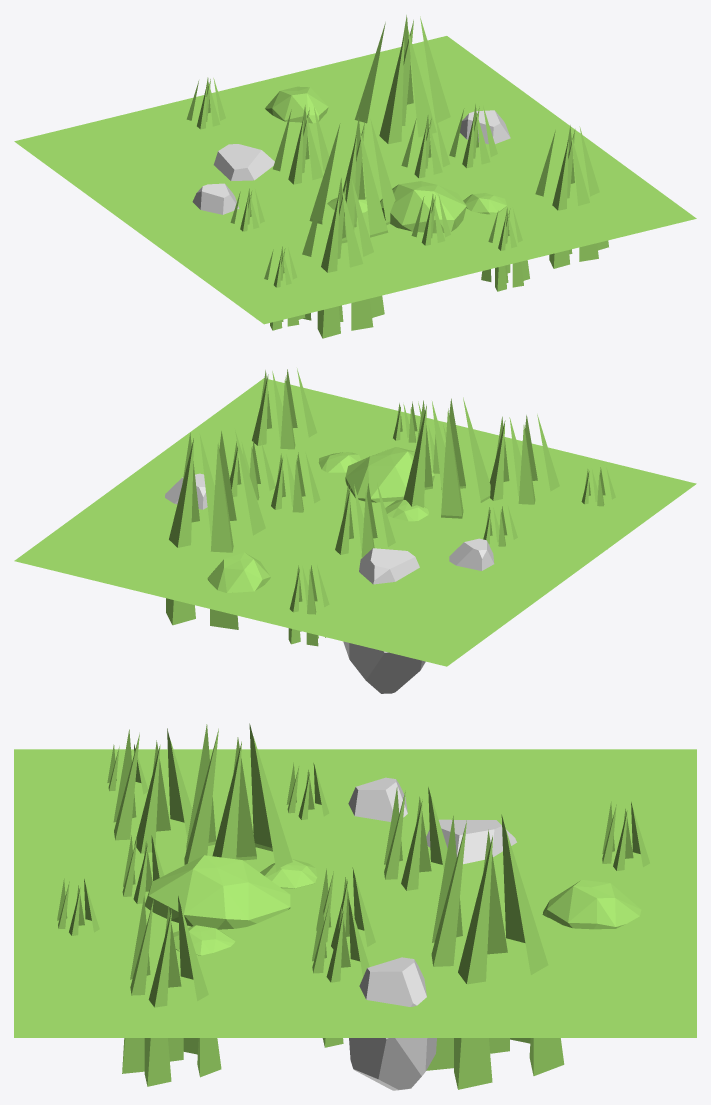
File: grass-composition-big-1-3.fbx
3 renders of one model, top to bottom at view 1: azimuth 30°, elevation 25°; view 2: azimuth 150°, elevation 25°; view 3: azimuth 270°, elevation 25°, orthographic. The views are drawn at different scales.
Parts seen in each view (by area): view 1: Plane, Grass.007, Grass.012, Grass, Bush1.2, Grass.001, Grass.006, Stone1.002, Bush1.1, Grass.013, Grass.008, Grass.005 (+6 smaller); view 2: Plane, Grass.007, Grass, Bush1.2, Stone1.002, Grass.012, Grass.001, Grass.006, Bush1.1, Grass.008, Grass.004, Stone1.1 (+5 smaller); view 3: Plane, Grass.007, Bush1.2, Grass, Grass.001, Stone1.003, Grass.012, Bush1.1, Grass.006, Grass.005, Stone1.002, Stone1.1 (+6 smaller).
Part boxes in pixels (x1,y1,x2,y2): Plane: [14, 36, 696, 324]; Grass.007: [354, 15, 450, 144]; Grass.012: [302, 178, 384, 338]; Grass: [309, 117, 395, 243]; Bush1.2: [327, 181, 506, 233]; Grass.001: [535, 125, 608, 268]; Grass.006: [273, 105, 332, 184]; Stone1.002: [213, 144, 274, 180]; Bush1.1: [265, 86, 328, 123]; Grass.013: [481, 207, 529, 291]; Grass.008: [401, 115, 449, 178]; Grass.005: [449, 104, 497, 168]; Plane: [14, 378, 696, 666]; Grass.007: [166, 430, 265, 629]; Grass: [403, 397, 490, 518]; Bush1.2: [318, 447, 434, 521]; Stone1.002: [343, 548, 425, 693]; Grass.012: [489, 414, 559, 504]; Grass.001: [252, 368, 317, 449]; Grass.006: [335, 483, 395, 557]; Bush1.1: [207, 552, 270, 592]; Grass.008: [271, 452, 320, 512]; Grass.004: [288, 565, 329, 646]; Stone1.1: [449, 538, 494, 570]; Plane: [14, 749, 696, 1037]; Grass.007: [426, 814, 564, 1089]; Bush1.2: [145, 855, 317, 955]; Grass: [184, 723, 292, 872]; Grass.001: [122, 896, 221, 1086]; Stone1.003: [349, 957, 436, 1090]; Grass.012: [113, 728, 192, 853]; Bush1.1: [542, 880, 641, 929]; Grass.006: [384, 787, 447, 890]; Grass.005: [312, 899, 369, 1047]; Stone1.002: [426, 819, 516, 864]; Stone1.1: [348, 777, 407, 821].
Size of the model in its own units: 200 by 97.13 by 200.
